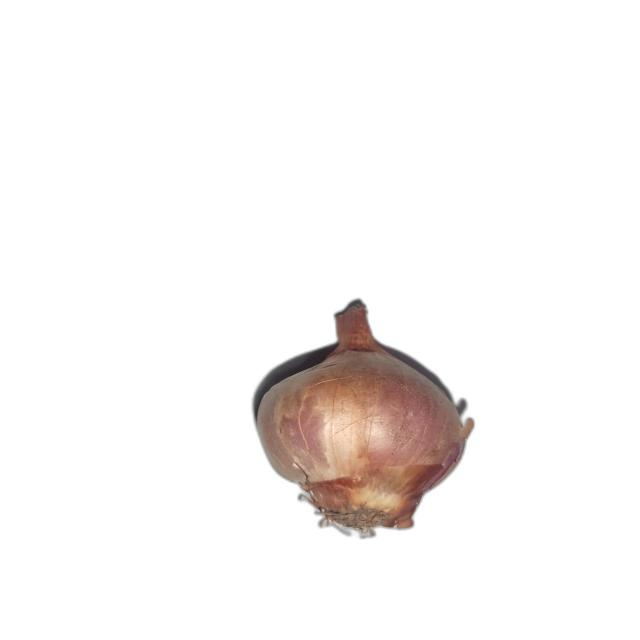onion: (256, 302, 476, 536)
